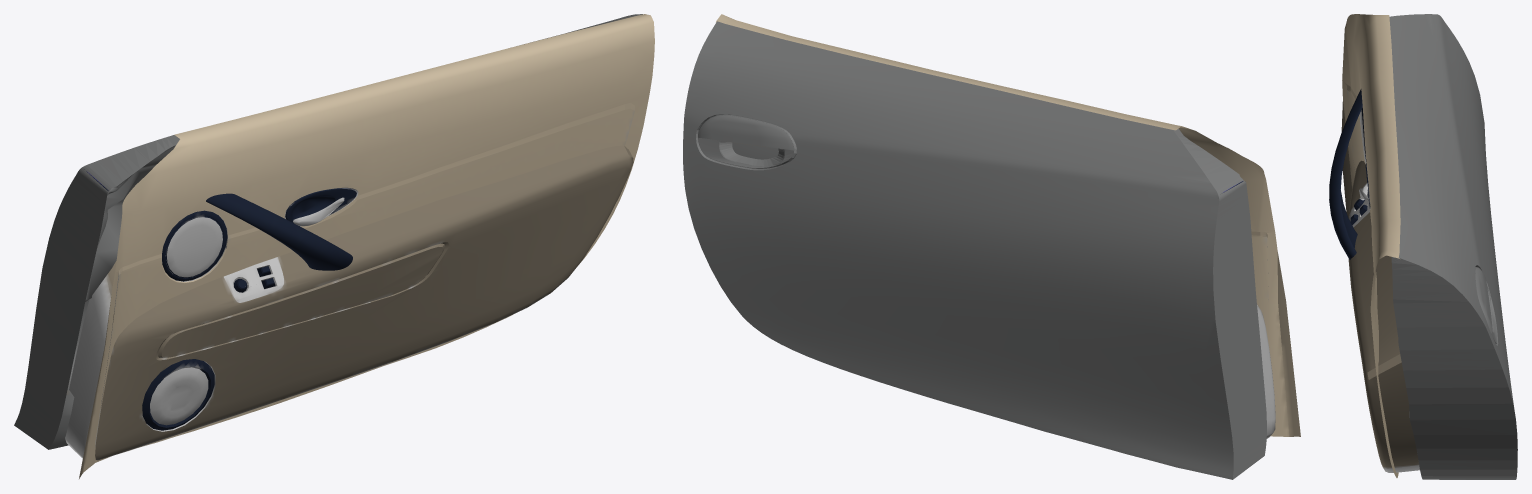
File: right_door.glb
3 views of the same model, side by side, from view 1: azimuth 30°, elevation 25°; view 2: azimuth 150°, elevation 25°; view 3: azimuth 270°, elevation 25° (orthographic). The views are drawn at different scales.
Visible parts, largest first — view 1: right_door; view 2: right_door; view 3: right_door.
Boxes of the visible parts, x1,y1,x2,y2 form: right_door: (14, 14, 654, 478); right_door: (683, 14, 1300, 479); right_door: (1329, 14, 1517, 479).
Size of the model in its own units: 29.71 by 14.94 by 7.81.
Materials: 1 (1 with a texture image).
